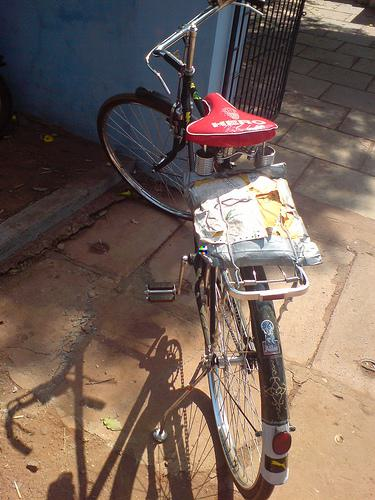car: (96, 1, 311, 500)
